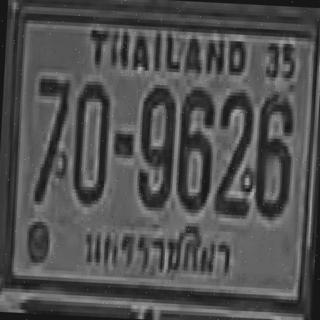N00: (70, 77, 110, 201)
N02: (214, 88, 254, 212)
N06: (252, 90, 294, 218), (175, 86, 215, 210)
N07: (31, 75, 69, 203)
N09: (136, 81, 176, 208)
P30: (79, 212, 238, 286)
